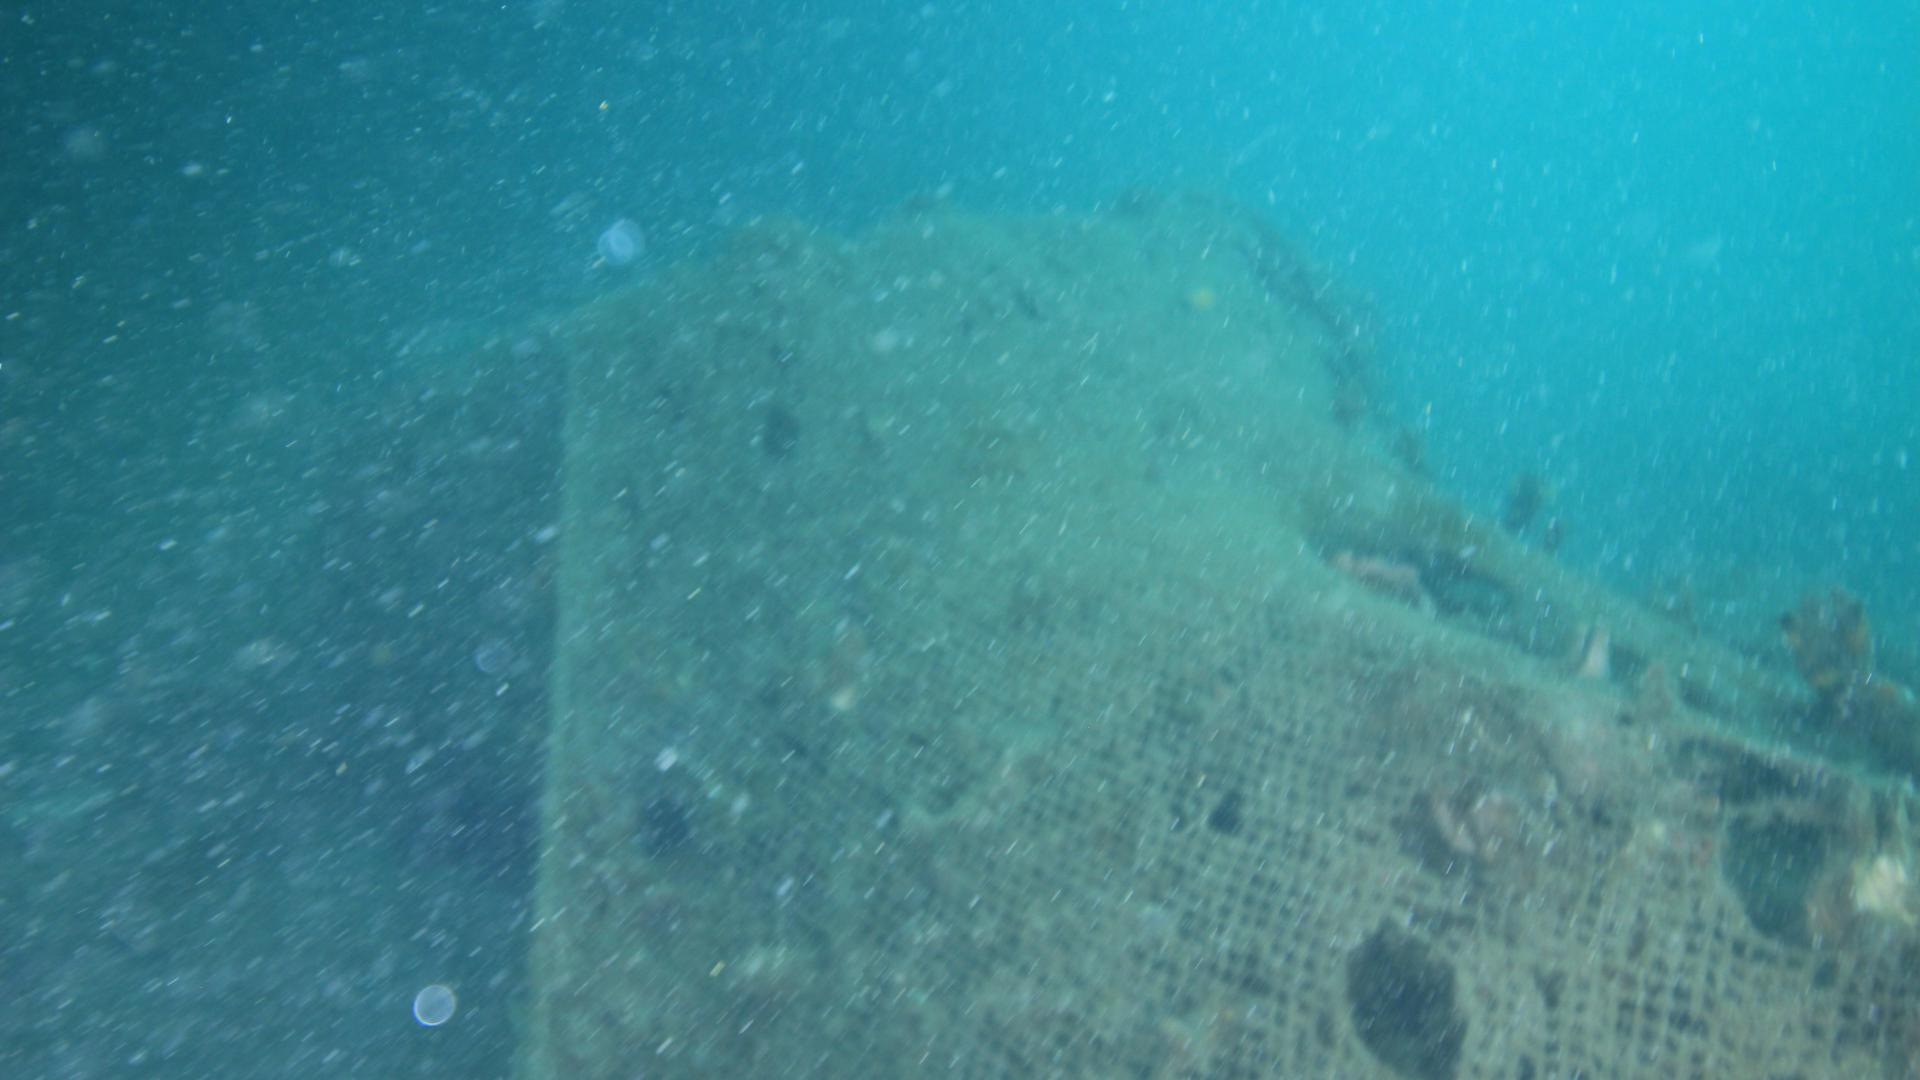fish net: (626, 270, 1920, 1080)
